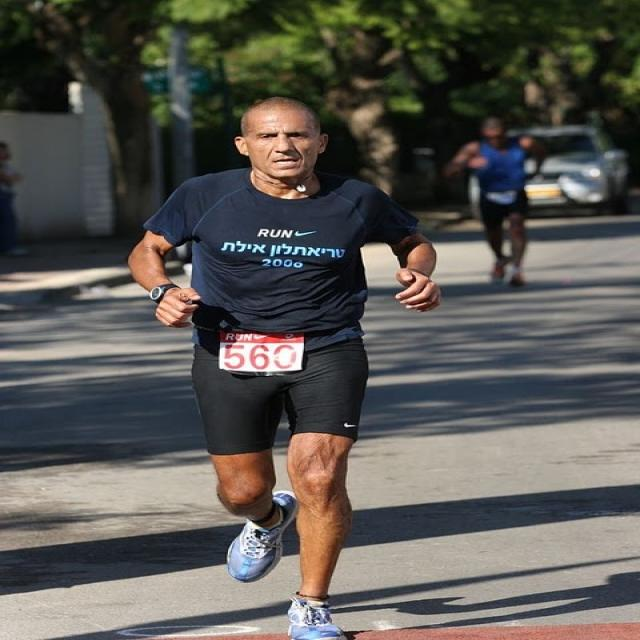Bib: (224, 347, 300, 373)
